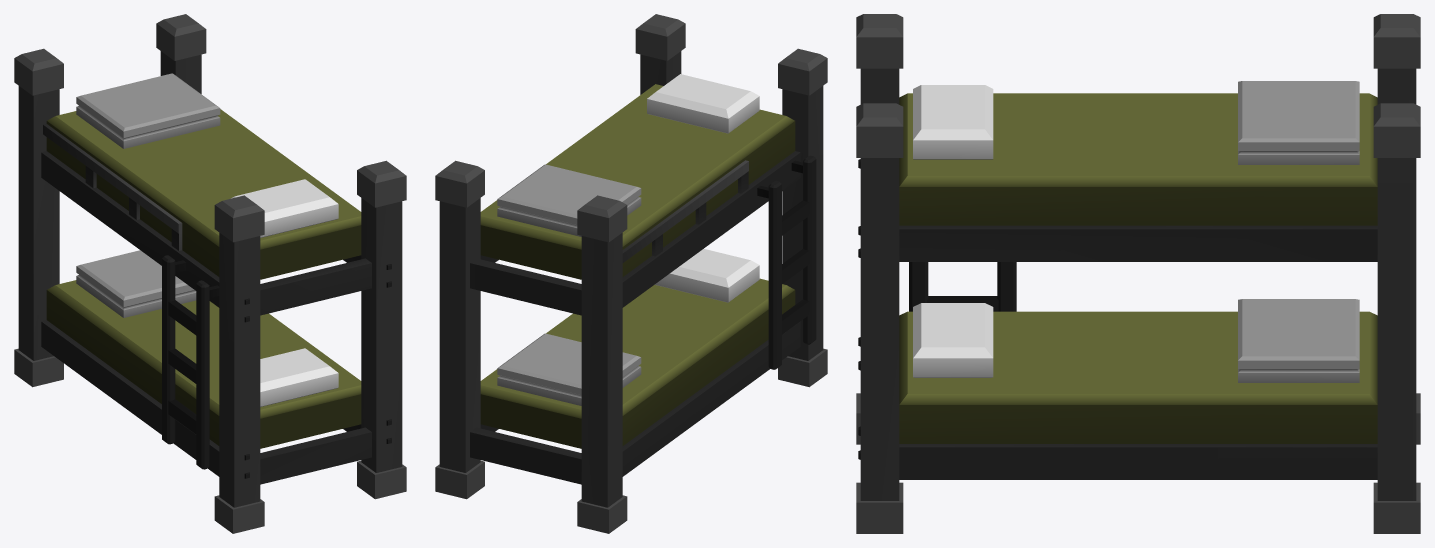
File: bunk-bed.glb
3 views of the same model, side by side, from view 1: azimuth 30°, elevation 25°; view 2: azimuth 150°, elevation 25°; view 3: azimuth 270°, elevation 25° (orthographic). The views are drawn at different scales.
Visible parts, largest first — view 1: bunk-bed; view 2: bunk-bed; view 3: bunk-bed.
Boxes of the visible parts, box(x1,y1,x2,y2) form: bunk-bed: box(14, 14, 406, 533); bunk-bed: box(435, 14, 827, 533); bunk-bed: box(856, 14, 1420, 533).
Bounding box in the file's own units: 0.99 × 1.65 × 2.04.
Materials: 1 (1 with a texture image).
